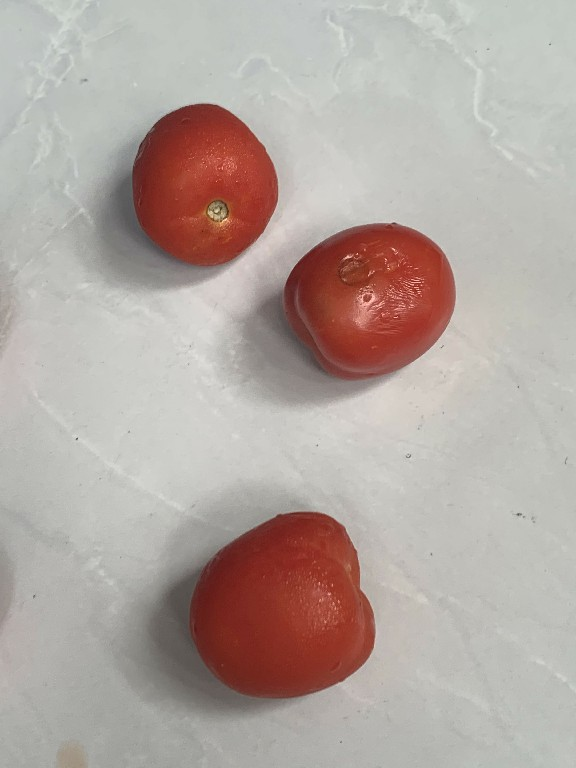NG: (276, 210, 456, 389)
OK: (172, 502, 392, 716), (120, 90, 291, 280)
